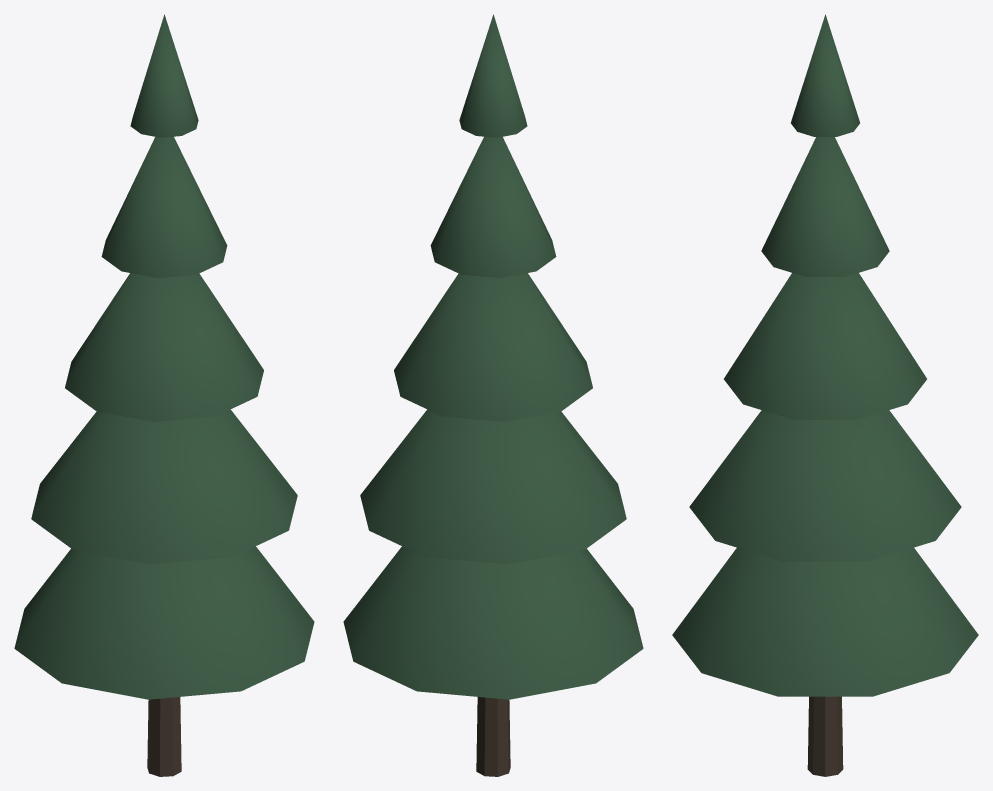
File: Tree_Conifer_A.fbx
3 renders of one model, left to right at view 1: azimuth 30°, elevation 25°; view 2: azimuth 150°, elevation 25°; view 3: azimuth 270°, elevation 25°, orthographic.
Visible parts, largest first — view 1: Tree_Conifer_A; view 2: Tree_Conifer_A; view 3: Tree_Conifer_A.
Part boxes in pixels (bbox=[...]): Tree_Conifer_A: bbox=[14, 14, 314, 776]; Tree_Conifer_A: bbox=[343, 14, 643, 776]; Tree_Conifer_A: bbox=[672, 14, 978, 776].
Bounding box in the file's own units: 4.6 × 13.15 × 4.84.
